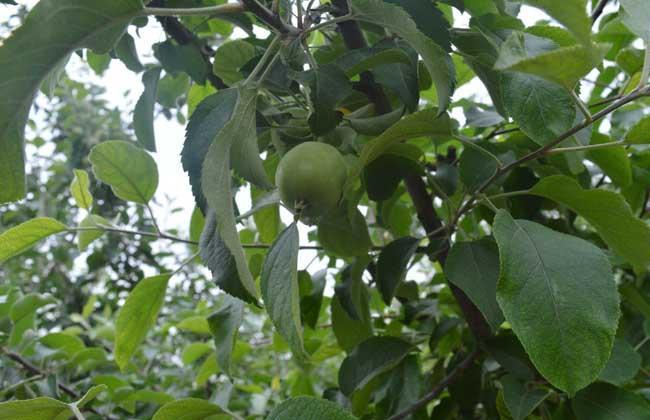apple: (273, 142, 347, 226)
